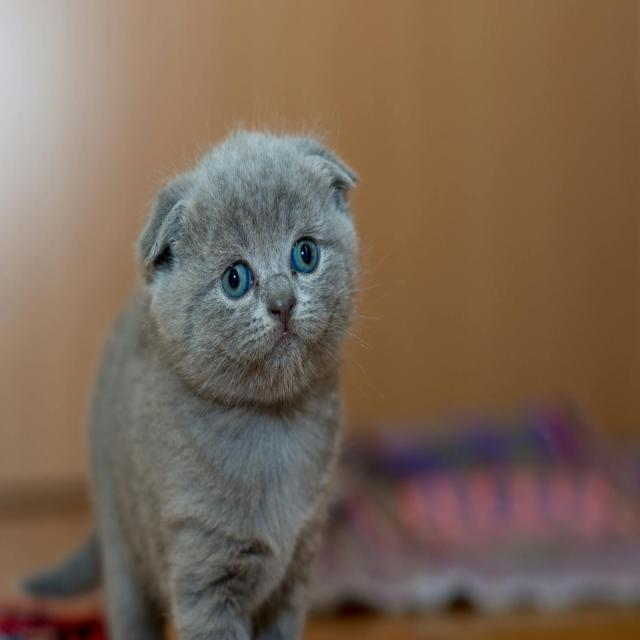Cat: (86, 123, 380, 638)
